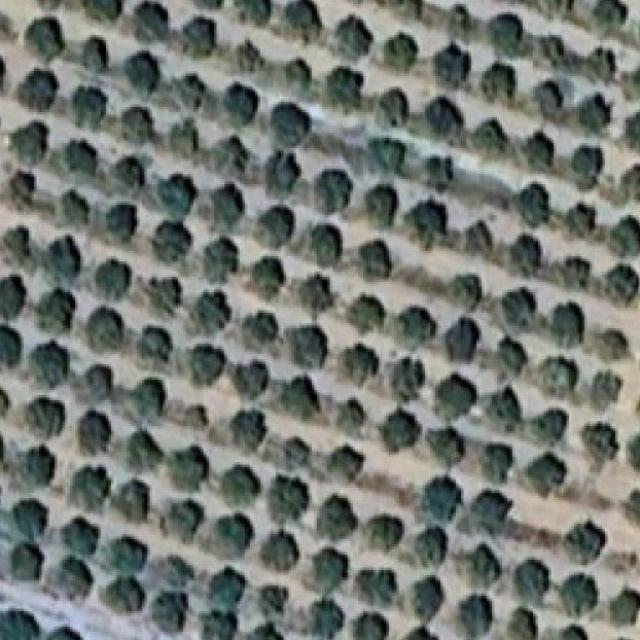Tree: (403, 199, 448, 250), (201, 514, 253, 558), (315, 494, 359, 544), (436, 372, 478, 421), (309, 546, 350, 596), (45, 559, 95, 600), (168, 445, 210, 493), (139, 554, 194, 590), (459, 543, 502, 589), (44, 235, 82, 287), (268, 475, 308, 524), (12, 443, 54, 489), (104, 574, 146, 620), (110, 476, 151, 523), (380, 408, 421, 454), (334, 14, 374, 61), (422, 476, 462, 523), (30, 340, 69, 388), (410, 575, 446, 627), (286, 324, 328, 368), (564, 521, 606, 565), (25, 17, 65, 63), (158, 174, 198, 220), (36, 287, 76, 333), (162, 499, 204, 542), (203, 567, 246, 609), (396, 306, 437, 350), (525, 453, 566, 497), (582, 422, 618, 472), (359, 514, 404, 554), (270, 103, 310, 147), (192, 290, 232, 334), (472, 491, 512, 535), (314, 169, 353, 214), (25, 396, 66, 438), (122, 431, 164, 472), (18, 69, 58, 112), (281, 376, 320, 420), (354, 568, 398, 607), (560, 573, 599, 617), (10, 121, 48, 166), (86, 306, 124, 351), (326, 66, 363, 112), (211, 183, 245, 233), (298, 274, 334, 321), (210, 136, 250, 178), (152, 220, 192, 262), (260, 529, 300, 571), (283, 0, 322, 43), (539, 357, 579, 398), (61, 516, 100, 558), (221, 82, 258, 126), (488, 13, 524, 58), (486, 386, 522, 431), (390, 357, 425, 403), (346, 294, 386, 334), (4, 542, 44, 582), (266, 151, 300, 198), (550, 301, 584, 348), (433, 44, 469, 88), (124, 50, 160, 94), (71, 86, 107, 130), (258, 205, 294, 249), (570, 144, 604, 190), (222, 464, 260, 505), (106, 535, 147, 573), (95, 258, 132, 300), (412, 525, 448, 568), (204, 237, 238, 282), (446, 317, 480, 362), (77, 409, 111, 454), (425, 97, 464, 136), (70, 467, 109, 506), (512, 558, 552, 596), (426, 426, 463, 467), (342, 342, 378, 384), (251, 256, 285, 300), (190, 344, 227, 384), (500, 287, 536, 328), (230, 410, 266, 451), (12, 499, 48, 540), (605, 264, 640, 306), (364, 185, 398, 228), (242, 311, 278, 351), (152, 592, 188, 632), (480, 63, 514, 105), (518, 184, 550, 228), (327, 444, 364, 482), (576, 92, 611, 132), (134, 0, 168, 41), (310, 599, 344, 640), (509, 234, 542, 276), (472, 120, 508, 158), (232, 360, 268, 398), (384, 33, 419, 72), (182, 18, 216, 58), (132, 378, 166, 418), (460, 595, 492, 637), (530, 408, 567, 444), (522, 131, 554, 172), (608, 215, 640, 256), (359, 240, 391, 281), (310, 225, 342, 266), (147, 277, 182, 314), (138, 326, 173, 363), (368, 138, 406, 172), (448, 272, 482, 310), (482, 442, 514, 482), (0, 608, 40, 640), (106, 204, 138, 243), (590, 372, 622, 411), (0, 274, 27, 320), (609, 586, 640, 626), (592, 0, 628, 34), (122, 106, 154, 144), (498, 336, 528, 376), (65, 139, 97, 176), (378, 88, 408, 126), (168, 118, 198, 156), (336, 398, 366, 436), (594, 328, 628, 361), (565, 202, 596, 238), (463, 220, 493, 257), (200, 610, 237, 640), (534, 80, 563, 118), (3, 226, 32, 264), (588, 46, 618, 82), (176, 74, 206, 110), (354, 611, 391, 640), (425, 156, 454, 192), (507, 607, 538, 640), (60, 190, 90, 224), (113, 156, 144, 188), (234, 0, 272, 26), (86, 364, 112, 402), (81, 37, 108, 73), (0, 325, 23, 367), (258, 586, 288, 618), (236, 39, 264, 73), (562, 256, 590, 290), (606, 548, 640, 576), (448, 4, 472, 42), (283, 436, 310, 469), (9, 171, 35, 205), (538, 35, 565, 67), (81, 0, 122, 21), (285, 59, 312, 90), (544, 623, 589, 640), (620, 166, 640, 202), (247, 622, 283, 640), (184, 404, 209, 429), (626, 110, 640, 152), (625, 486, 640, 524), (539, 0, 574, 15), (397, 0, 423, 20), (47, 626, 84, 640), (0, 10, 17, 40), (628, 430, 640, 471), (404, 628, 438, 640), (0, 54, 12, 88), (0, 386, 12, 417), (185, 0, 226, 9), (632, 60, 640, 103), (35, 0, 66, 8), (0, 433, 6, 462), (494, 0, 528, 3), (607, 638, 636, 640)
